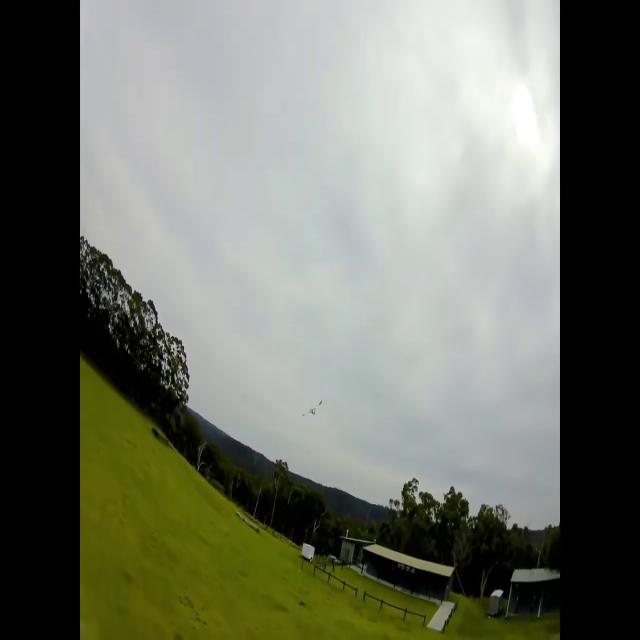iha: (303, 401, 321, 419)
